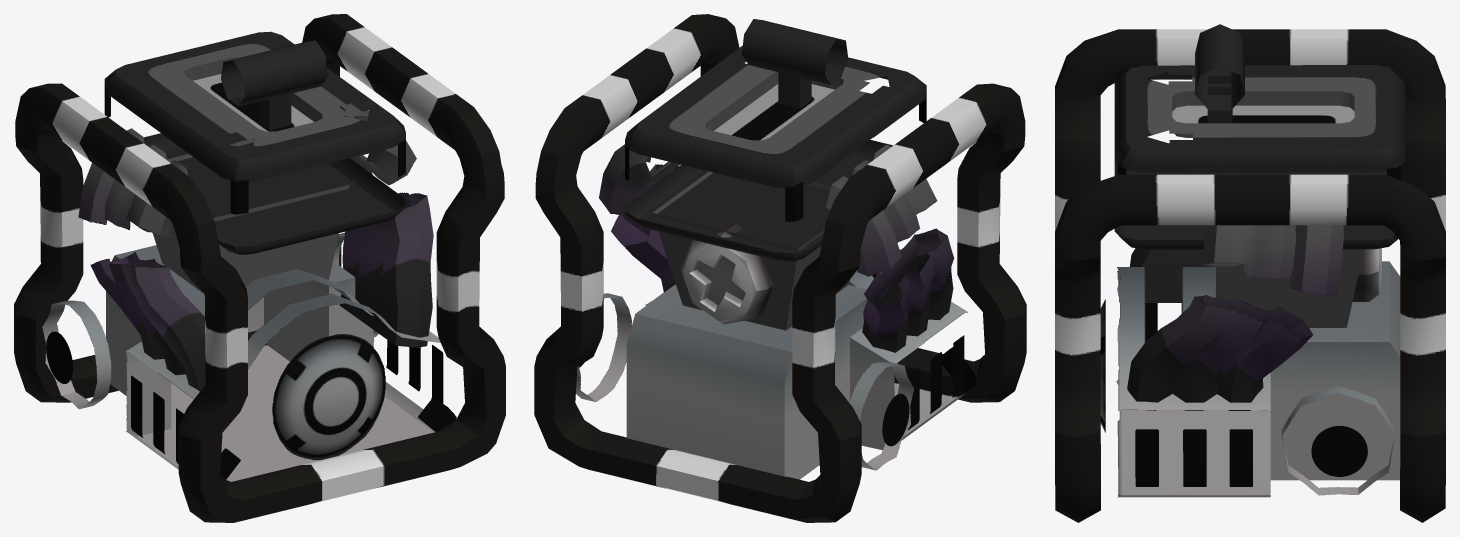
The model's file is obj_interactive_gasengine_03_on.fbx.
3 views of the same model, side by side, from view 1: azimuth 30°, elevation 25°; view 2: azimuth 150°, elevation 25°; view 3: azimuth 270°, elevation 25° (orthographic). The views are drawn at different scales.
Visible parts, largest first — view 1: obj_interactive_gasengine_03_on; view 2: obj_interactive_gasengine_03_on; view 3: obj_interactive_gasengine_03_on.
Part boxes in pixels (<box>): obj_interactive_gasengine_03_on: <box>14,14,505,522</box>; obj_interactive_gasengine_03_on: <box>534,14,1026,522</box>; obj_interactive_gasengine_03_on: <box>1055,24,1445,522</box>.
Size of the model in its own units: 2.04 by 2.4 by 2.04.
